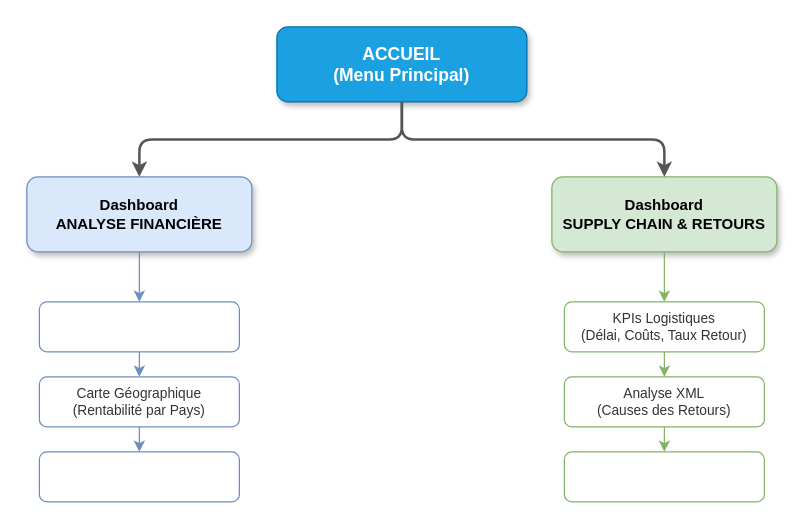
Image size: 806x524. Some labels were removed from this diagram. The centre of each missing label's shape, as x and y in pixels:
Graphique de Tendance (Croissance YoY): [138,476]
KPIs Financiers (CA, Profit, Marge): [138,326]
Matrice Produits (Top Produits Critiques): [663,476]
